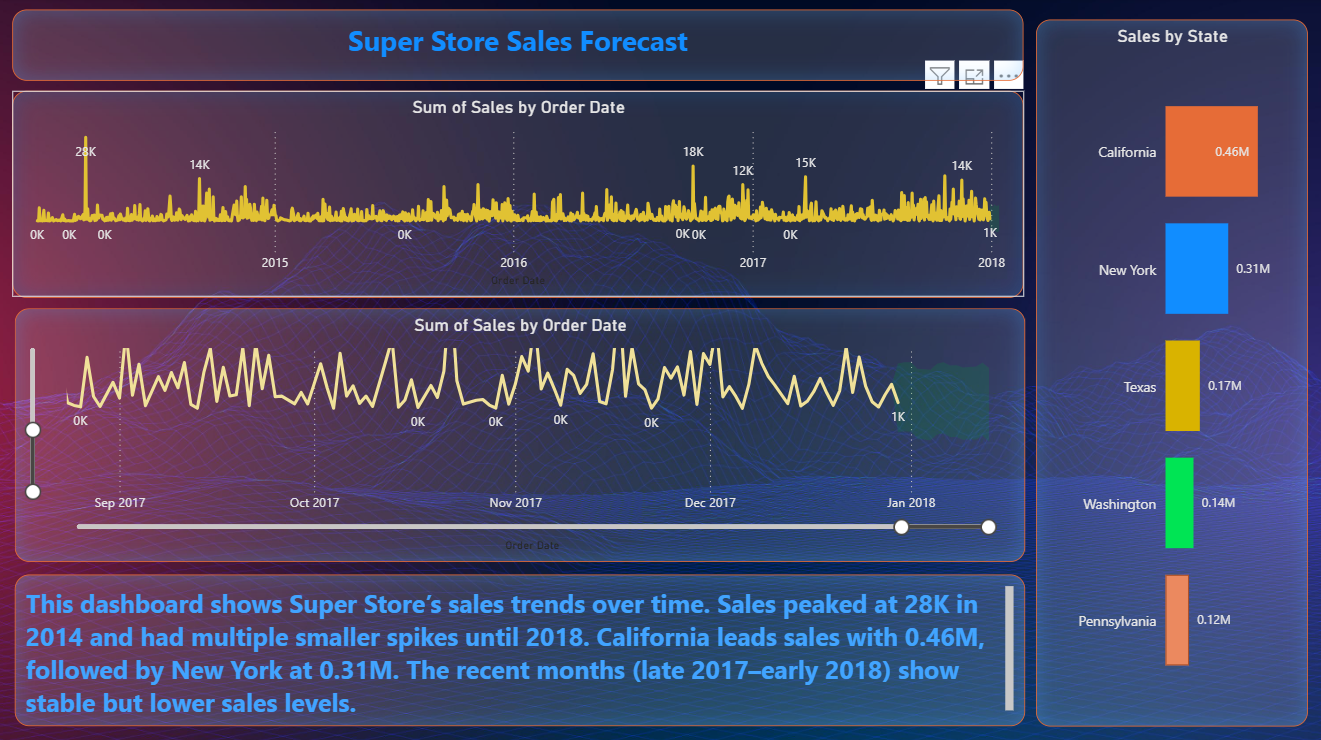

Layout of this report page (visuals, bound fields, positions):
{"tool":"powerbi","page":{"name":"Page 2","canvas":[1280,720],"ordinal":1},"visuals":[{"type":"lineChart","fields":{"Y":["Sum(Sample - Superstore.Sales)"],"Category":["Sample - Superstore.Order Date"]},"box":[16.2,90,976.2,200],"z":0},{"type":"lineChart","fields":{"Y":["Sum(Sample - Superstore.Sales)"],"Category":["Sample - Superstore.Order Date"]},"box":[17.5,300,975,245],"z":1000},{"type":"clusteredBarChart","title":"Sales by State","fields":{"Y":["Sum(Sample - Superstore.Sales)"],"Category":["Sample - Superstore.State"]},"box":[1003.8,21.2,262.5,682.5],"z":2000},{"type":"textbox","box":[16.2,12.5,976.2,68.8],"z":3000},{"type":"textbox","box":[17.5,557.5,975,146.2],"z":3001}]}

Visuals, with their boxes in screenshot pixels (x1, y1, x2, y2), scaled from the page's 1280x720 canvas onto the 1321x740 screenshot:
lineChart - Sum(Sample - Superstore.Sales) x Sample - Superstore.Order Date: left=17, top=92, right=1024, bottom=298
lineChart - Sum(Sample - Superstore.Sales) x Sample - Superstore.Order Date: left=18, top=308, right=1024, bottom=560
"Sales by State" clusteredBarChart: left=1036, top=22, right=1307, bottom=723
textbox: left=17, top=13, right=1024, bottom=84
textbox: left=18, top=573, right=1024, bottom=723
